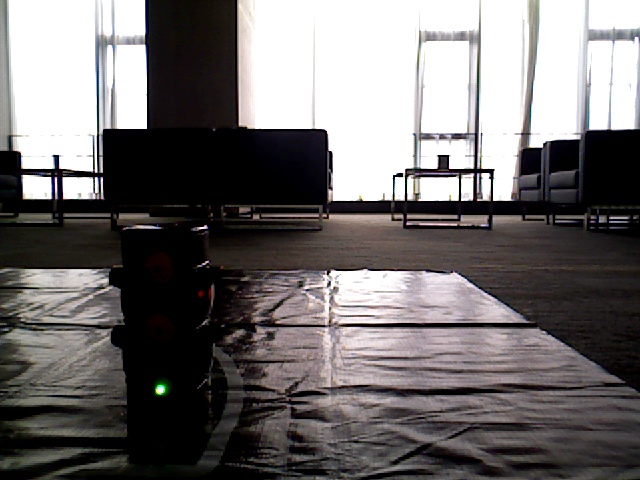green: (126, 237, 199, 409)
